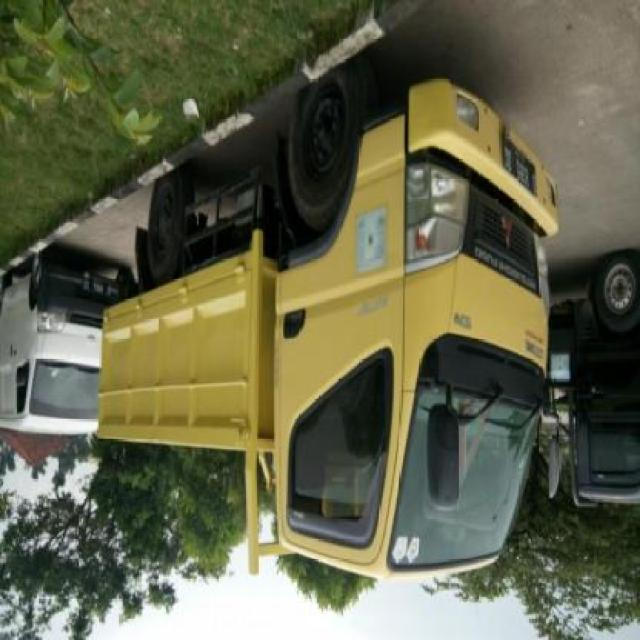truck: (102, 78, 586, 584)
